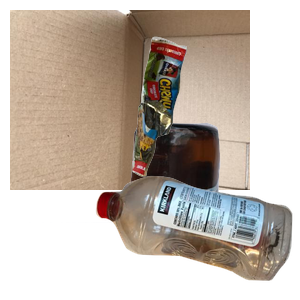cardboard: (10, 10, 250, 190)
glass: (29, 120, 242, 300)
plastic: (93, 173, 300, 300)
trash: (130, 34, 300, 203)
